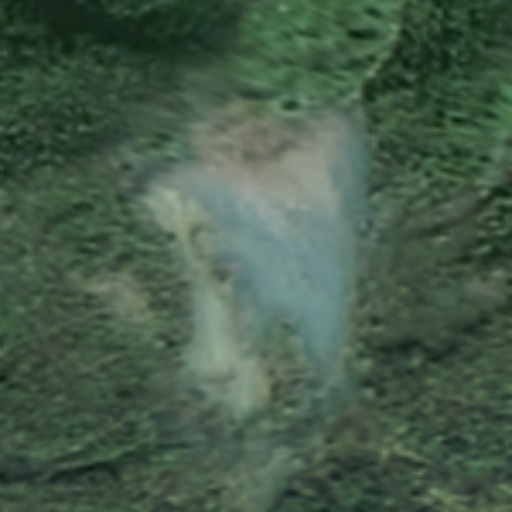landslide: (151, 105, 362, 400)
